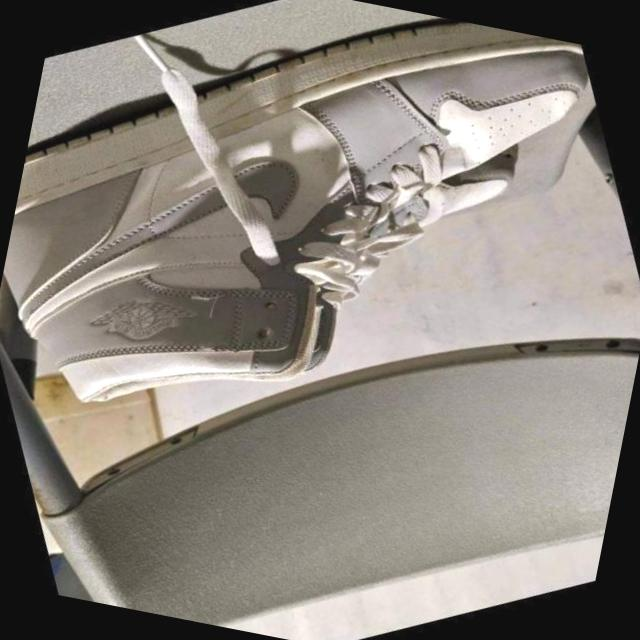nike_original_airforce: (0, 0, 640, 545)
